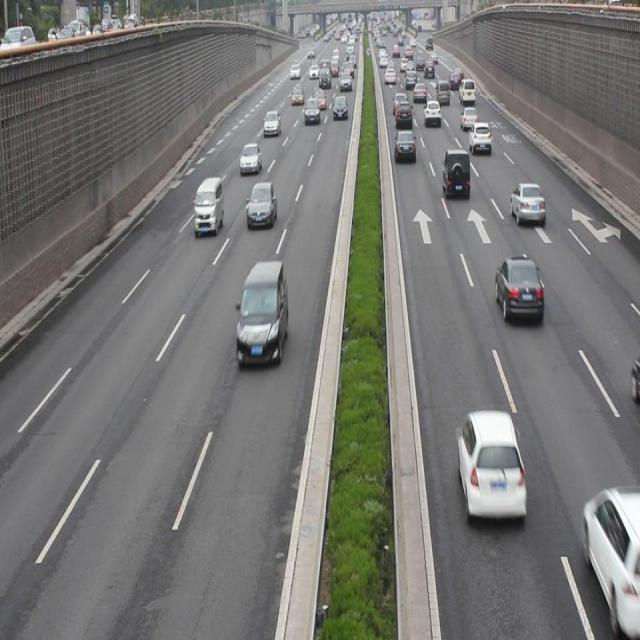car: (579, 486, 640, 640), (455, 407, 524, 516), (493, 255, 543, 323), (440, 146, 470, 200), (510, 180, 545, 226), (245, 179, 277, 229), (467, 120, 491, 152), (240, 140, 261, 173), (394, 128, 415, 160), (393, 99, 412, 127), (422, 99, 441, 126), (262, 109, 281, 135), (461, 104, 478, 132)
truck: (235, 260, 288, 367), (194, 173, 224, 235)
